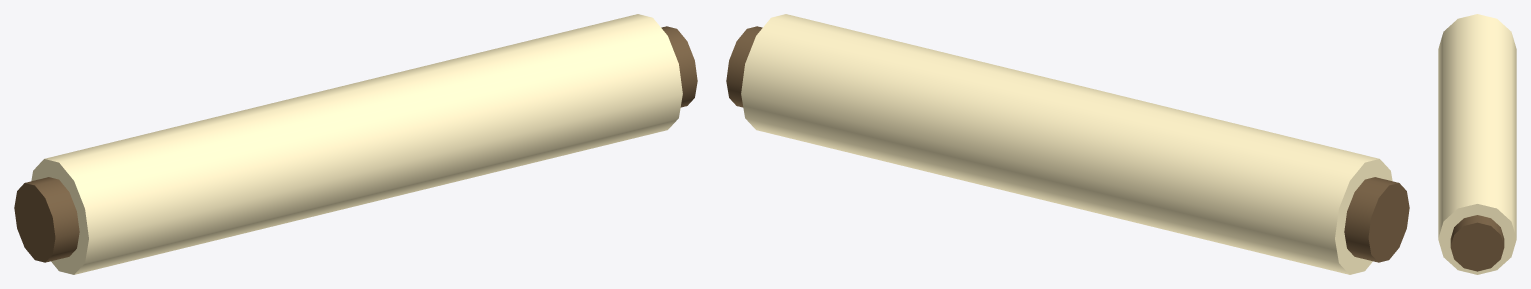
File: 0dda952f-8b94-49ae-967c-a16528a113a2.glb
The picture shows the model from 3 angles, left to right: view 1: azimuth 30°, elevation 25°; view 2: azimuth 150°, elevation 25°; view 3: azimuth 270°, elevation 25°; orthographic projection. The views are drawn at different scales.
Visible parts, largest first — view 1: AsianCalligraphyScrollClosed; view 2: AsianCalligraphyScrollClosed; view 3: AsianCalligraphyScrollClosed.
Boxes of the visible parts, bbox=[...] form: AsianCalligraphyScrollClosed: bbox=[14, 14, 697, 274]; AsianCalligraphyScrollClosed: bbox=[726, 14, 1409, 274]; AsianCalligraphyScrollClosed: bbox=[1438, 14, 1516, 274].
Size of the model in its own units: 0.449 by 0.0726 by 0.0726.
1 material, 1 textured.
